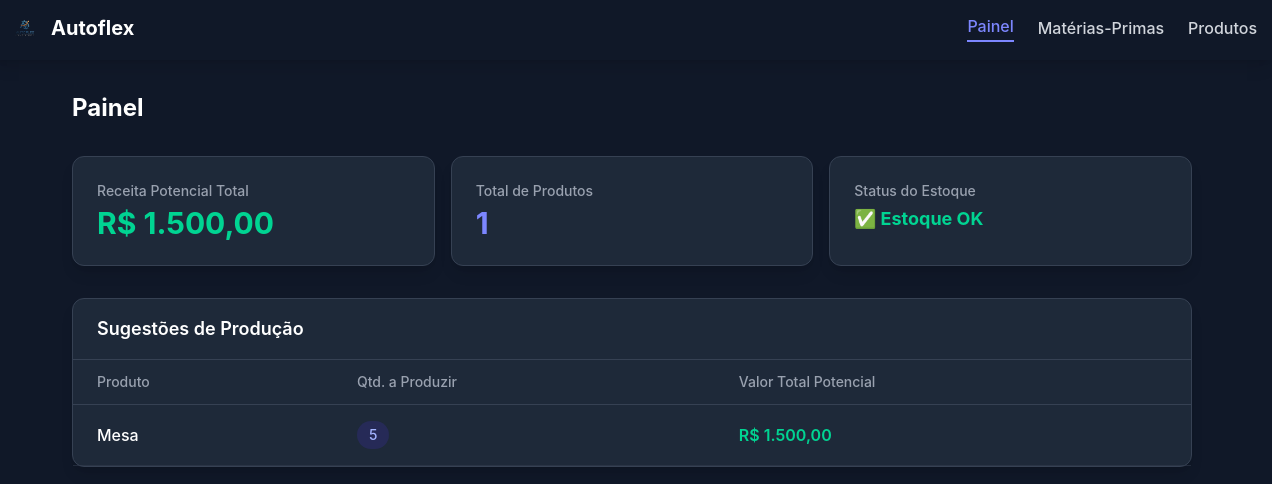
Test: Inventory Management App E2E › should navigate to Materials page and see the list
The width and height of the screenshot is (1272, 484).
Click the link "Matérias-Primas": (1101, 28) x1=1038 y1=16 x2=1164 y2=40
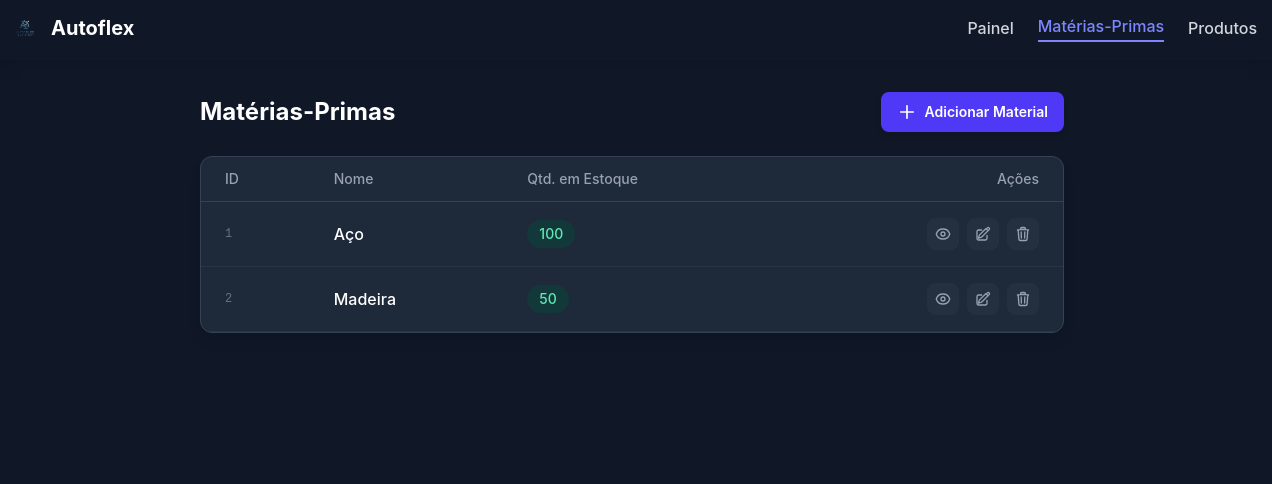
Result: the text "Aço" is shown at x1=310 y1=202 x2=503 y2=266
Result: the text "Madeira" is shown at x1=310 y1=266 x2=503 y2=332
Result: the text "100" is shown at x1=527 y1=220 x2=575 y2=248
